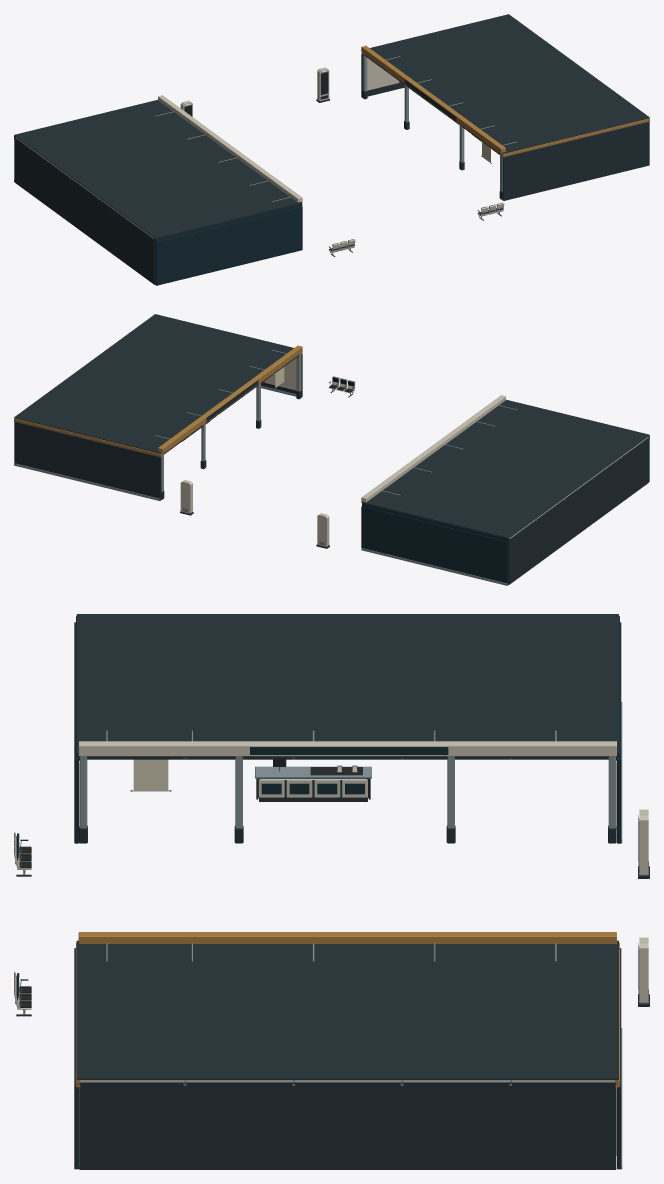
File: station-concourse.glb
3 renders of one model, top to bottom at view 1: azimuth 30°, elevation 25°; view 2: azimuth 150°, elevation 25°; view 3: azimuth 270°, elevation 25°, orthographic. The views are drawn at different scales.
Visible parts, largest first — view 1: Static_FinishDark, Static_FinishPetrol, Static_FinishIvory, Static_FinishOchre, Static_FinishSteel; view 2: Static_FinishDark, Static_FinishPetrol, Static_FinishIvory, Static_FinishSteel, Static_FinishOchre; view 3: Static_FinishDark, Static_FinishIvory, Static_FinishOchre, Static_FinishPetrol, Static_FinishSteel, Static_FinishPaper, Static_FinishRubber.
Boxes of the visible parts, box(x1,y1,x2,y2) form: Static_FinishDark: box(14, 14, 649, 284); Static_FinishPetrol: box(14, 95, 503, 285); Static_FinishIvory: box(15, 58, 504, 252); Static_FinishOchre: box(361, 45, 649, 156); Static_FinishSteel: box(14, 53, 516, 284); Static_FinishDark: box(14, 314, 649, 584); Static_FinishPetrol: box(332, 377, 649, 585); Static_FinishIvory: box(180, 358, 648, 546); Static_FinishSteel: box(14, 350, 649, 585); Static_FinishOchre: box(14, 345, 302, 456); Static_FinishDark: box(16, 614, 649, 1169); Static_FinishIvory: box(14, 741, 648, 1155); Static_FinishOchre: box(76, 932, 619, 1087); Static_FinishPetrol: box(15, 616, 639, 1003); Static_FinishSteel: box(20, 702, 639, 1169); Static_FinishPaper: box(133, 759, 356, 790); Static_FinishRubber: box(19, 759, 638, 1007).
Size of the model in its own units: 39.9 by 3.98 by 23.1.
